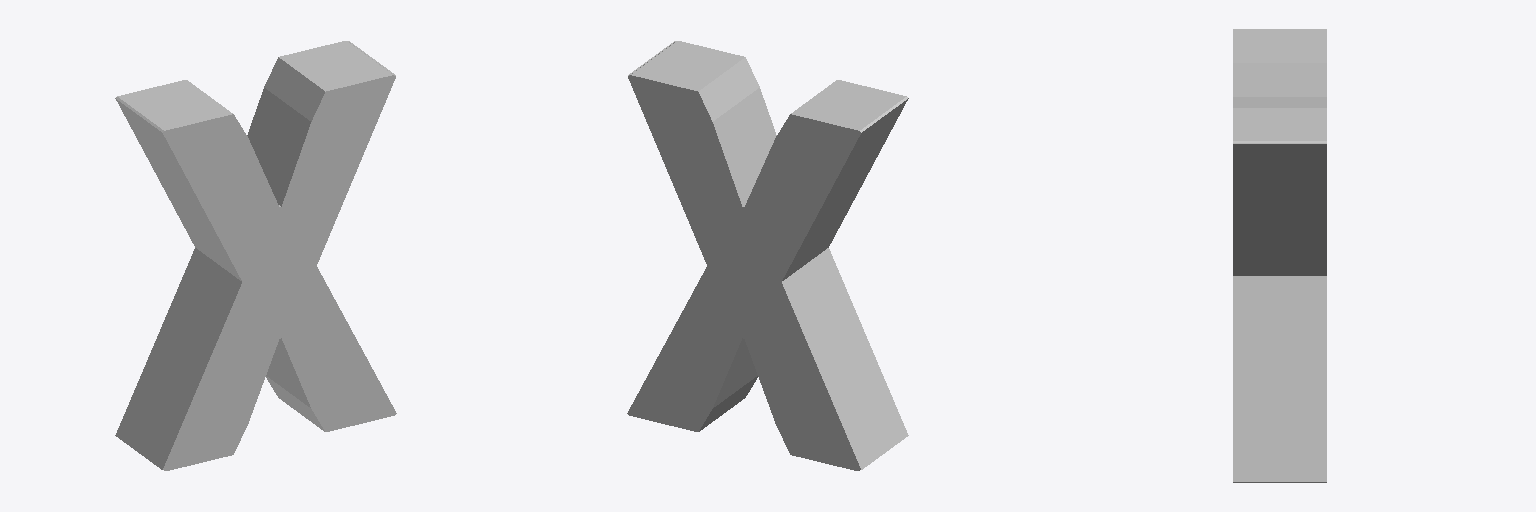
The picture shows the model from 3 angles: view 1: azimuth 30°, elevation 25°; view 2: azimuth 150°, elevation 25°; view 3: azimuth 270°, elevation 25°; orthographic projection.
Parts seen in each view (by area): view 1: text: ABCDEFGHIJKLMNOPQRSTUVWXYZ[number redacted]; view 2: text: ABCDEFGHIJKLMNOPQRSTUVWXYZ[number redacted]; view 3: text: ABCDEFGHIJKLMNOPQRSTUVWXYZ[number redacted].
Part boxes in pixels (left/top/right/bottom): text: ABCDEFGHIJKLMNOPQRSTUVWXYZ[number redacted]: left=115, top=41, right=396, bottom=470; text: ABCDEFGHIJKLMNOPQRSTUVWXYZ[number redacted]: left=627, top=41, right=908, bottom=470; text: ABCDEFGHIJKLMNOPQRSTUVWXYZ[number redacted]: left=1233, top=29, right=1326, bottom=482.
Bounding box in the file's own units: 71.49 × 99.43 × 25.